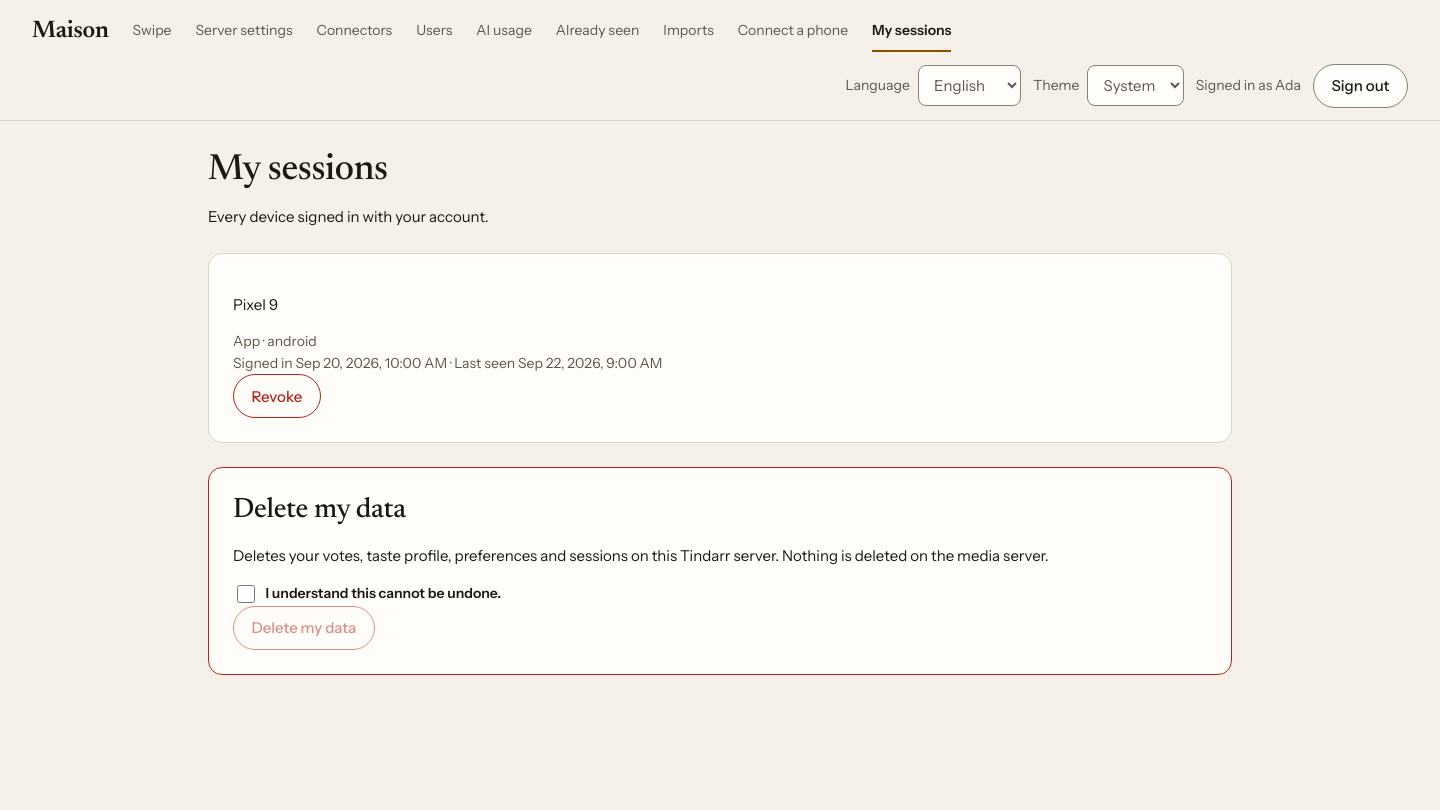
Scenario: deleting my data › needs the checkbox and a confirmation, then signs the user out
Check: the button "Delete my data" is disabled, box x1=233 y1=606 x2=375 y2=650
What coordinates should you click on to do the following:
click the checkbox labelled "I understand this cannot be undone."
I would click on:
 (246, 594)
Its box is x1=237 y1=585 x2=255 y2=603.
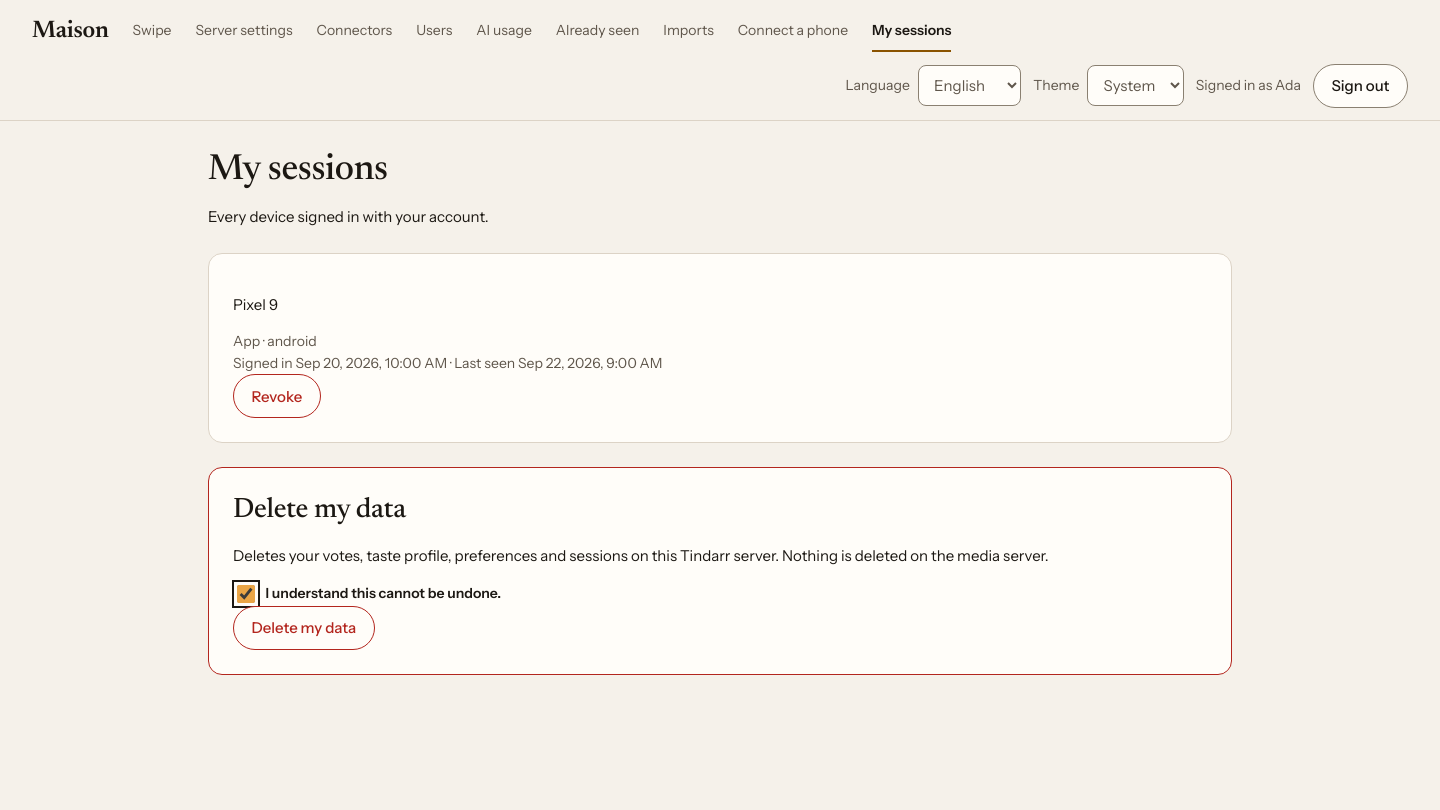
What coordinates should you click on to do the following:
click the button "Delete my data"
I would click on:
 (304, 628)
Its box is x1=233 y1=606 x2=375 y2=650.
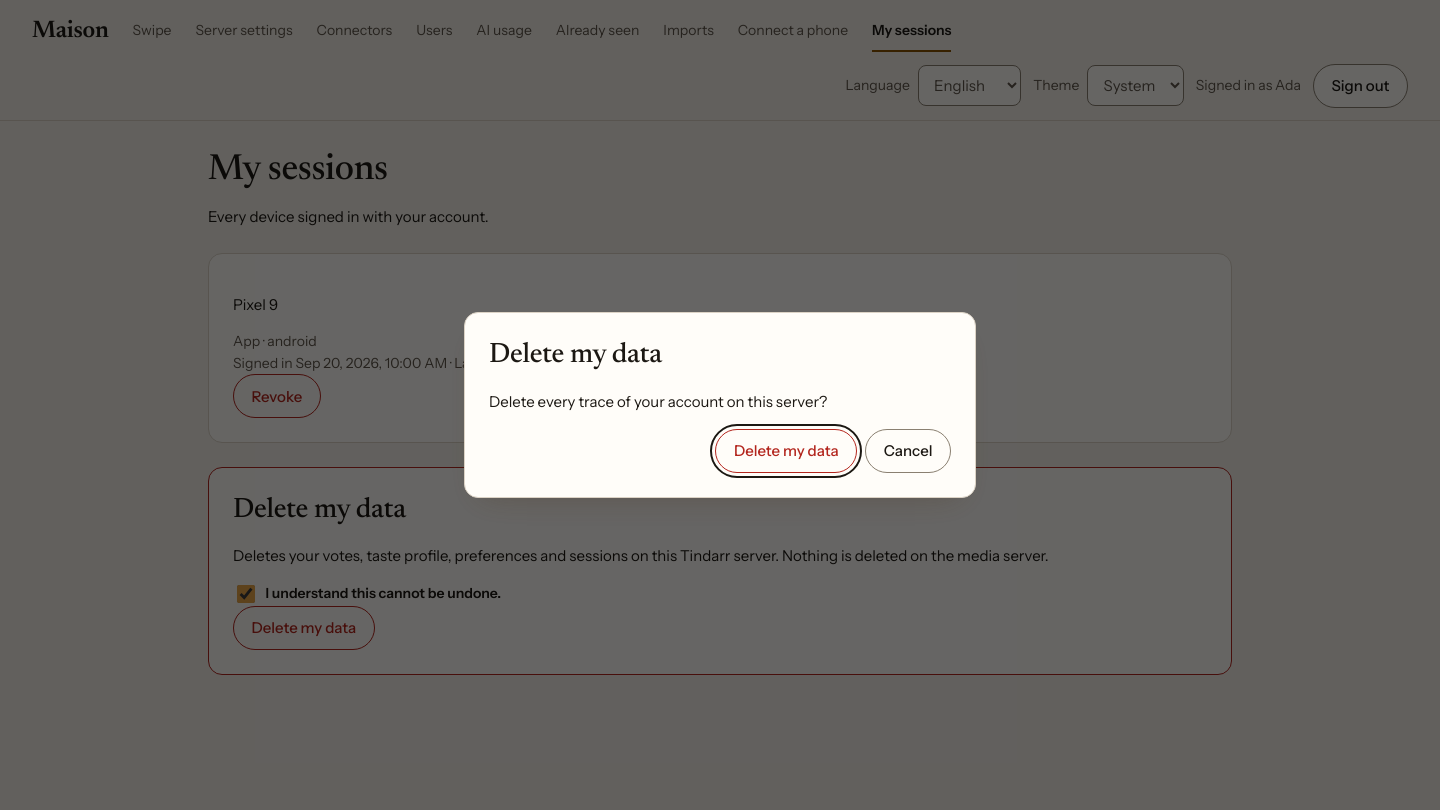
What coordinates should you click on to do the following:
click the button "Delete my data"
I would click on:
 (786, 451)
Its box is x1=715 y1=429 x2=857 y2=473.
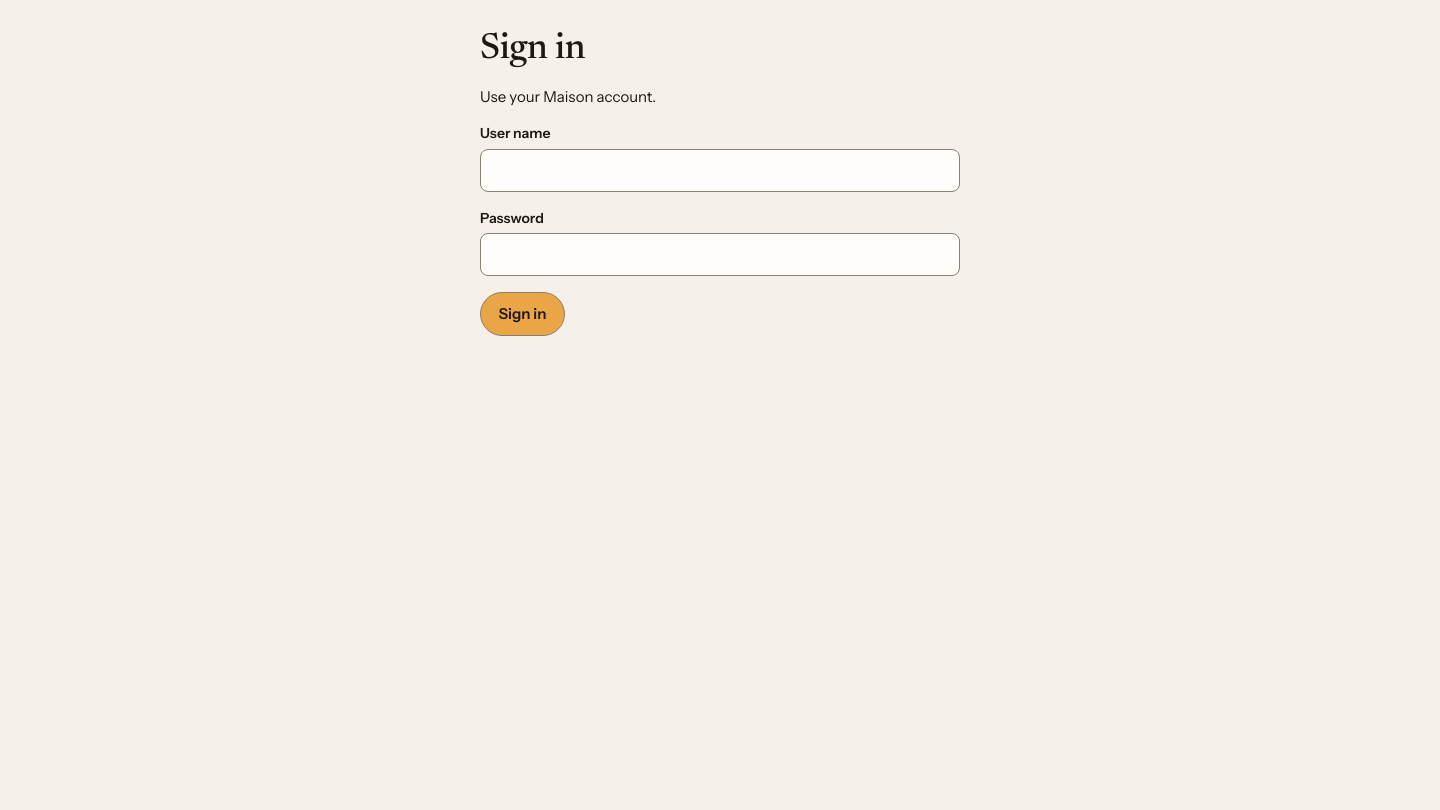
Check: the heading "Sign in" is shown, box x1=480 y1=32 x2=585 y2=68
